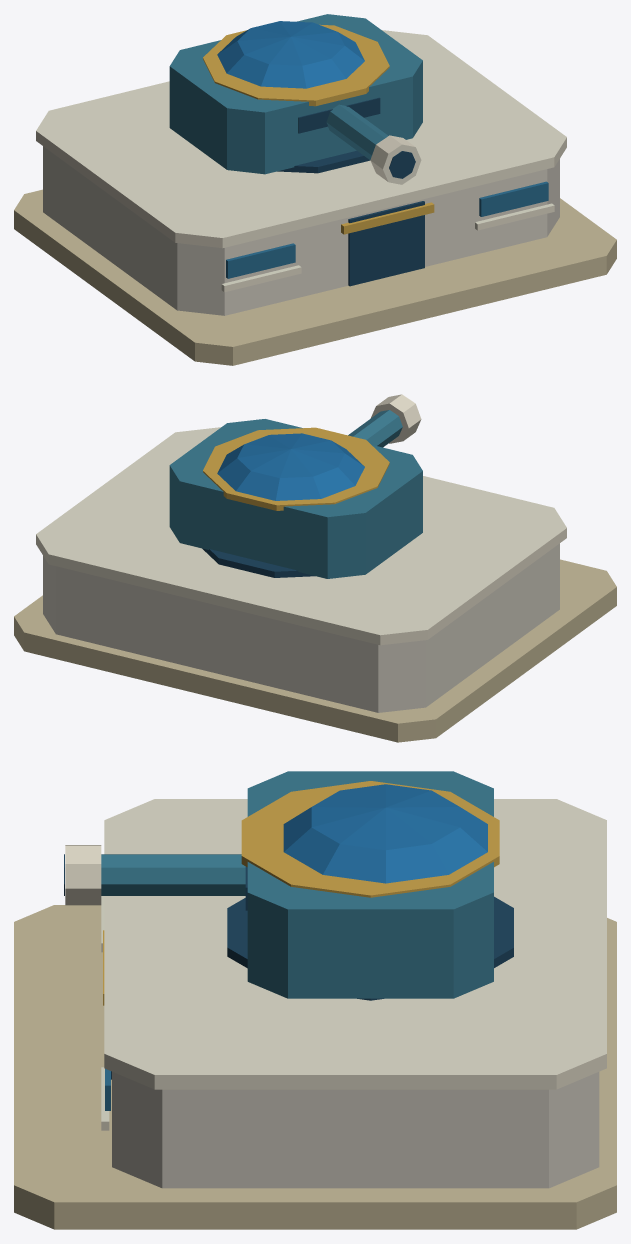
File: palace-coastal-gun.glb
3 renders of one model, top to bottom at view 1: azimuth 30°, elevation 25°; view 2: azimuth 150°, elevation 25°; view 3: azimuth 270°, elevation 25°, orthographic. The views are drawn at different scales.
Visible parts, largest first — view 1: intact_structure, turret, barrel; view 2: intact_structure, turret, barrel; view 3: intact_structure, turret, barrel.
Part boxes in pixels (<box>): intact_structure: <box>14,30,616,365</box>; turret: <box>169,14,422,174</box>; barrel: <box>326,104,421,184</box>; intact_structure: <box>14,427,616,742</box>; turret: <box>169,419,422,578</box>; barrel: <box>348,394,421,447</box>; intact_structure: <box>14,799,616,1229</box>; turret: <box>241,771,499,998</box>; barrel: <box>64,845,245,905</box>.
Size of the model in its own units: 7 by 3 by 6.
